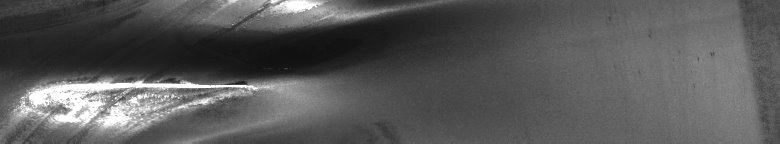ke: (11, 4, 443, 136)
